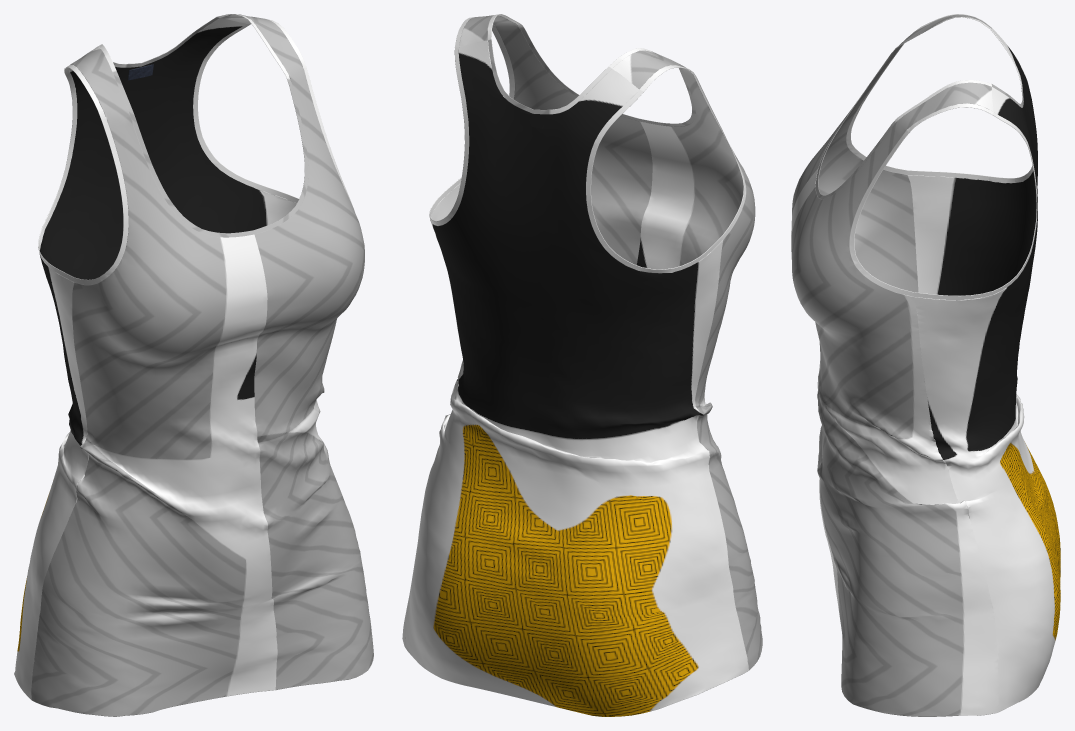
The model's file is Quad.fbx.
3 renders of one model, left to right at view 1: azimuth 30°, elevation 25°; view 2: azimuth 150°, elevation 25°; view 3: azimuth 270°, elevation 25°, orthographic. The views are drawn at different scales.
Visible parts, largest first — view 1: Quad; view 2: Quad; view 3: Quad.
Part boxes in pixels (bbox=[...]): Quad: bbox=[14, 14, 373, 716]; Quad: bbox=[402, 14, 762, 716]; Quad: bbox=[791, 14, 1060, 716].
Size of the model in its own units: 34.84 by 64.39 by 26.17.
